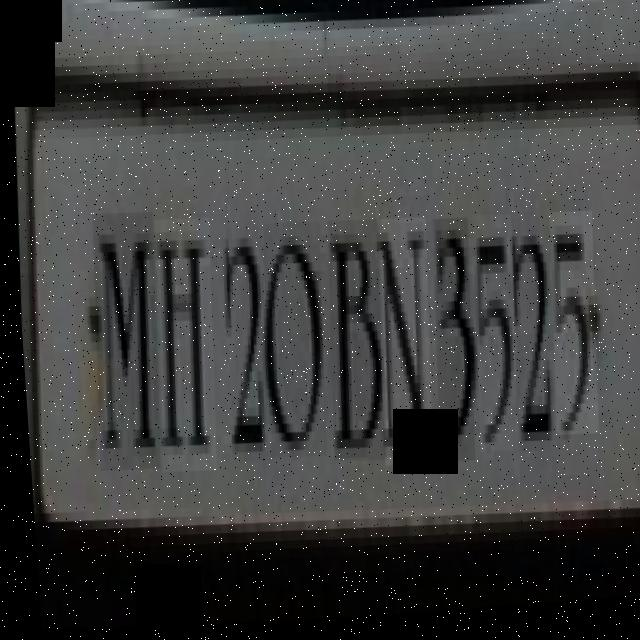0: (251, 224, 328, 464)
3: (421, 223, 478, 469)
5: (461, 220, 519, 460), (538, 219, 599, 444)
B: (315, 223, 388, 468)
H: (142, 218, 218, 476)
M: (80, 211, 163, 474)
N: (365, 222, 435, 472)
